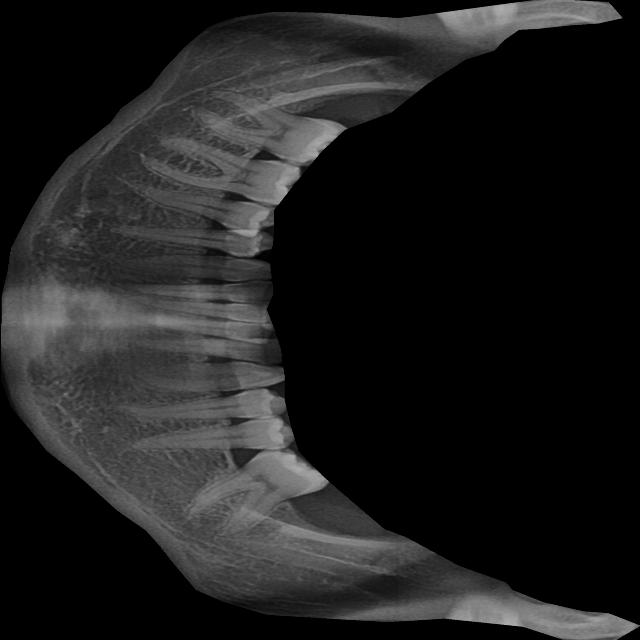mandibula: (0, 0, 640, 640)
